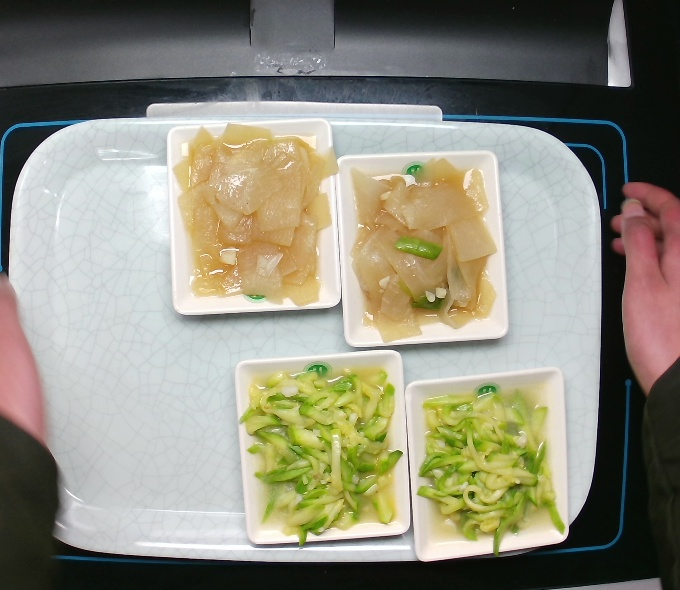wcq-LuoBo: (179, 120, 340, 299), (347, 164, 504, 339)
wcq-NenNanGua: (417, 380, 568, 549), (245, 374, 401, 534)
